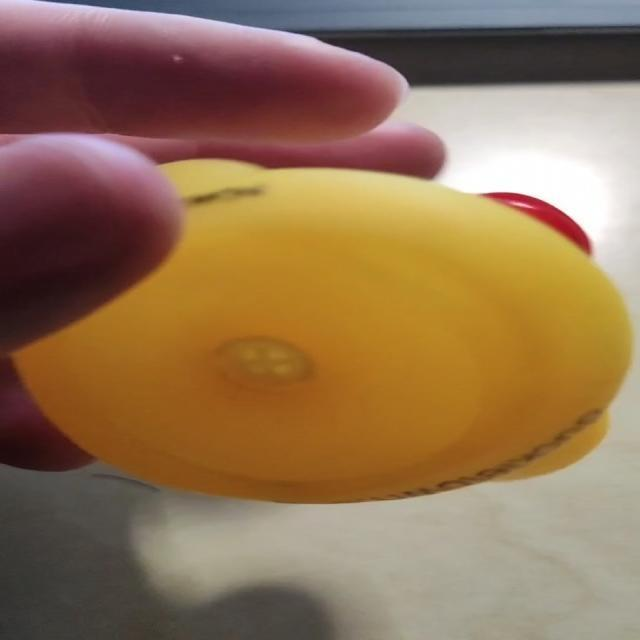rubber-duck: (13, 160, 630, 500)
